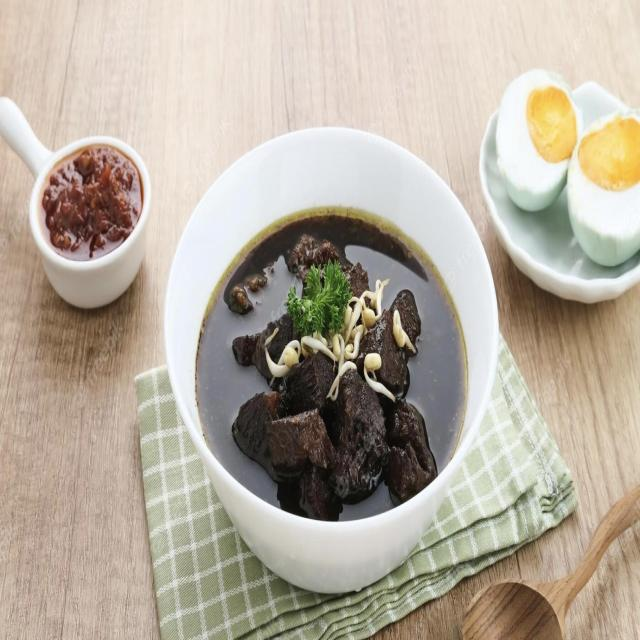Rawon: (200, 188, 460, 510)
